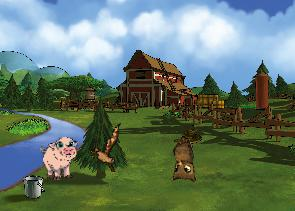eagle: (85, 123, 129, 176)
owl: (160, 134, 201, 187)
pig: (40, 137, 80, 180)
